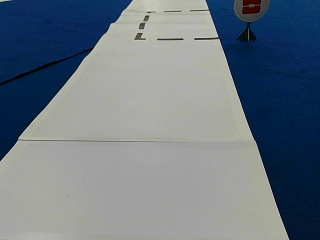company: (233, 0, 269, 21)
